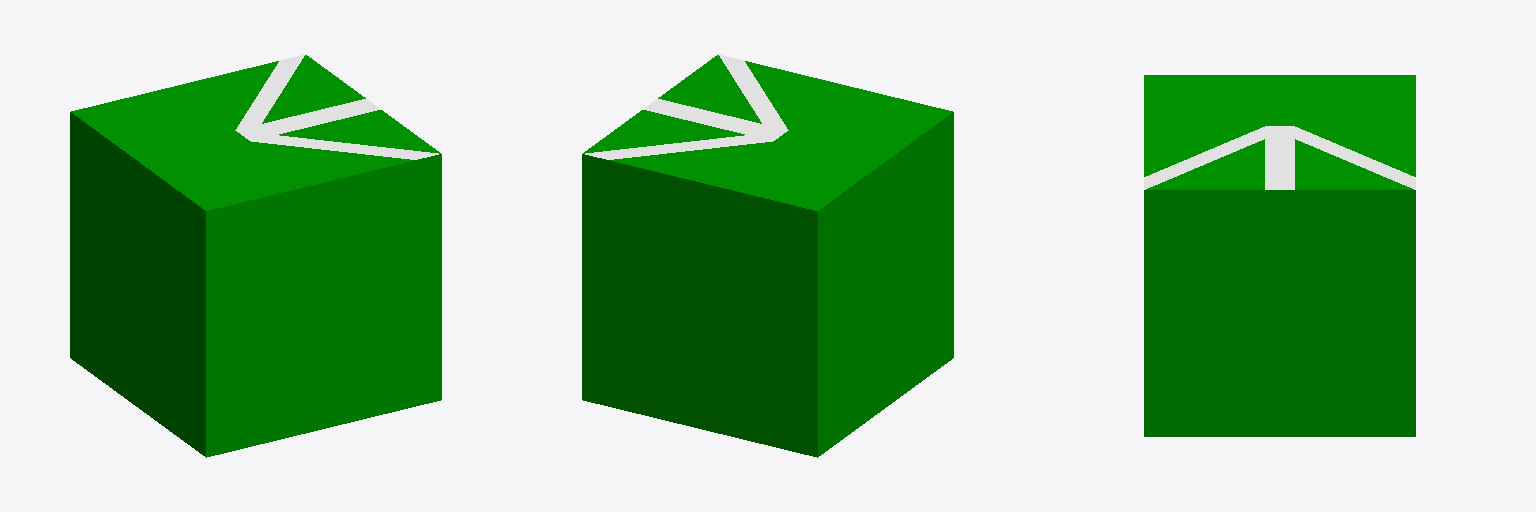
File: arrow.obj
The picture shows the model from 3 angles: view 1: azimuth 30°, elevation 25°; view 2: azimuth 150°, elevation 25°; view 3: azimuth 270°, elevation 25°; orthographic projection.
Parts seen in each view (by area): view 1: Cube; view 2: Cube; view 3: Cube.
Boxes of the visible parts, x1=… form: Cube: x1=70, y1=54, x2=441, y2=457; Cube: x1=582, y1=54, x2=953, y2=457; Cube: x1=1144, y1=75, x2=1415, y2=436.
Bounding box in the file's own units: 2 × 2 × 2.